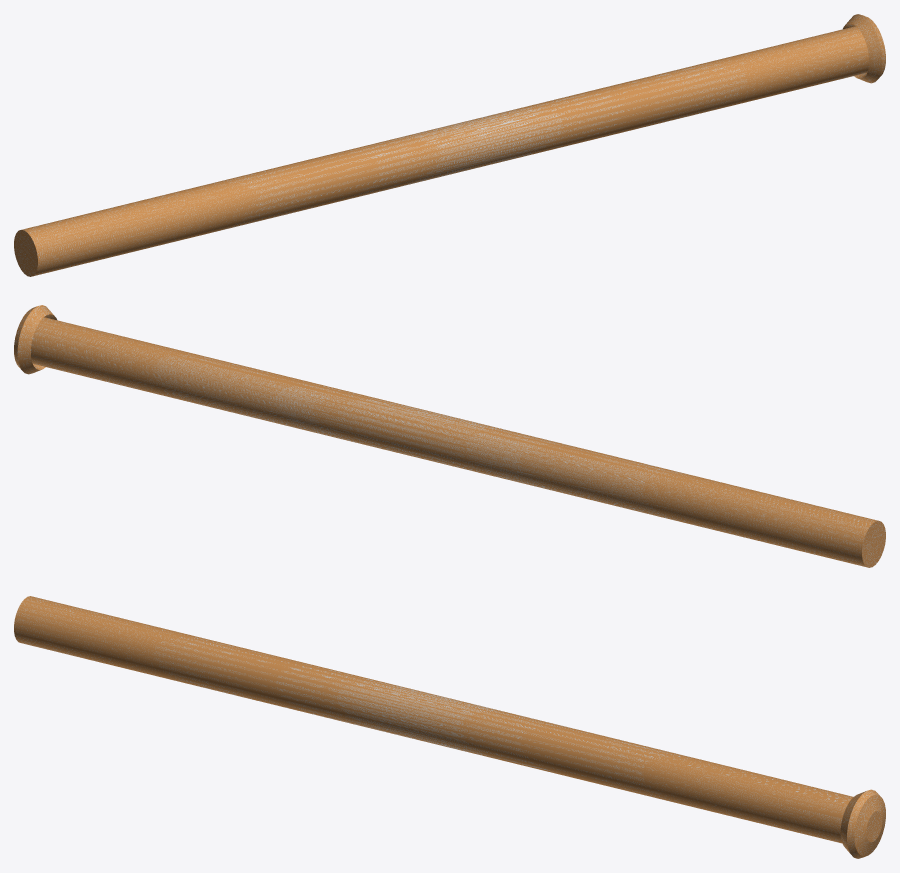
File: original-3.obj
The picture shows the model from 3 angles, top to bottom: view 1: azimuth 30°, elevation 25°; view 2: azimuth 150°, elevation 25°; view 3: azimuth 330°, elevation 25°; orthographic projection.
Parts seen in each view (by area): view 1: Group3/mesh3/mesh3-geometry#mesh3-geometry; view 2: Group3/mesh3/mesh3-geometry#mesh3-geometry; view 3: Group3/mesh3/mesh3-geometry#mesh3-geometry.
Part boxes in pixels (x1,y1,x2,y2): Group3/mesh3/mesh3-geometry#mesh3-geometry: (14, 14, 885, 276); Group3/mesh3/mesh3-geometry#mesh3-geometry: (14, 305, 885, 567); Group3/mesh3/mesh3-geometry#mesh3-geometry: (14, 596, 885, 858).
Bounding box in the file's own units: 0.0755 × 0.00543 × 0.00543.
